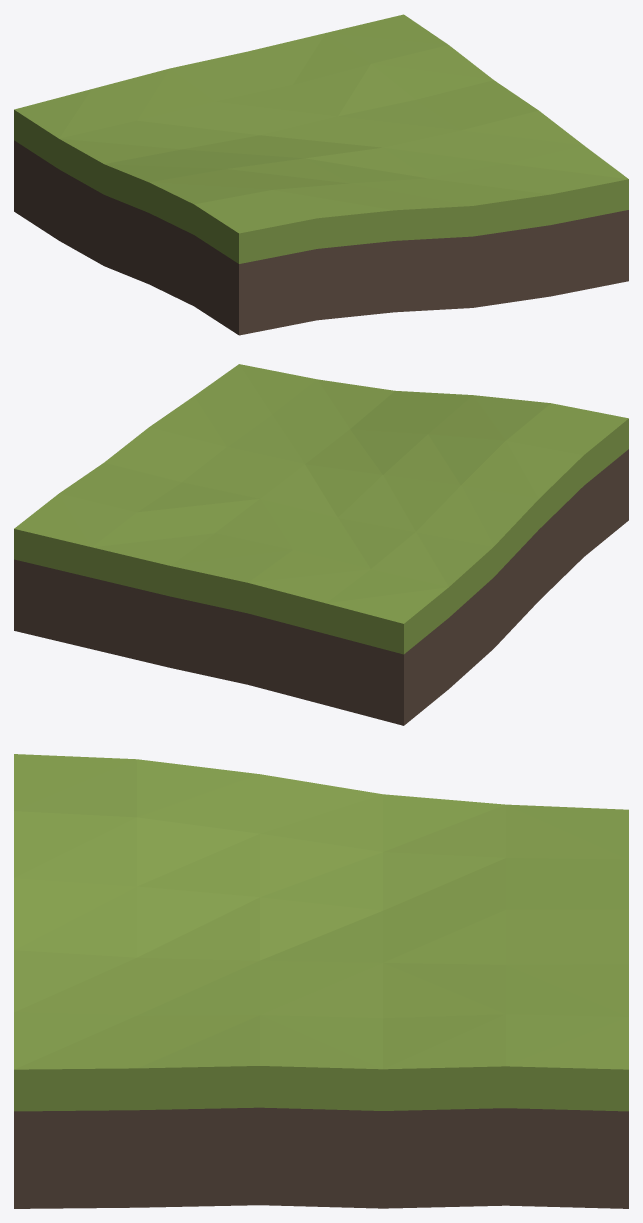
File: terrain-world-hill_01-4.fbx
The picture shows the model from 3 angles, top to bottom: view 1: azimuth 30°, elevation 25°; view 2: azimuth 150°, elevation 25°; view 3: azimuth 270°, elevation 25°; orthographic projection. The views are drawn at different scales.
Parts seen in each view (by area): view 1: terrain-world-hill_01-4; view 2: terrain-world-hill_01-4; view 3: terrain-world-hill_01-4.
Boxes of the visible parts, box(x1,y1,x2,y2) form: terrain-world-hill_01-4: box(14, 14, 628, 335); terrain-world-hill_01-4: box(14, 364, 628, 725); terrain-world-hill_01-4: box(14, 754, 628, 1208).
Bounding box in the file's own units: 2000 × 700 × 2000.
